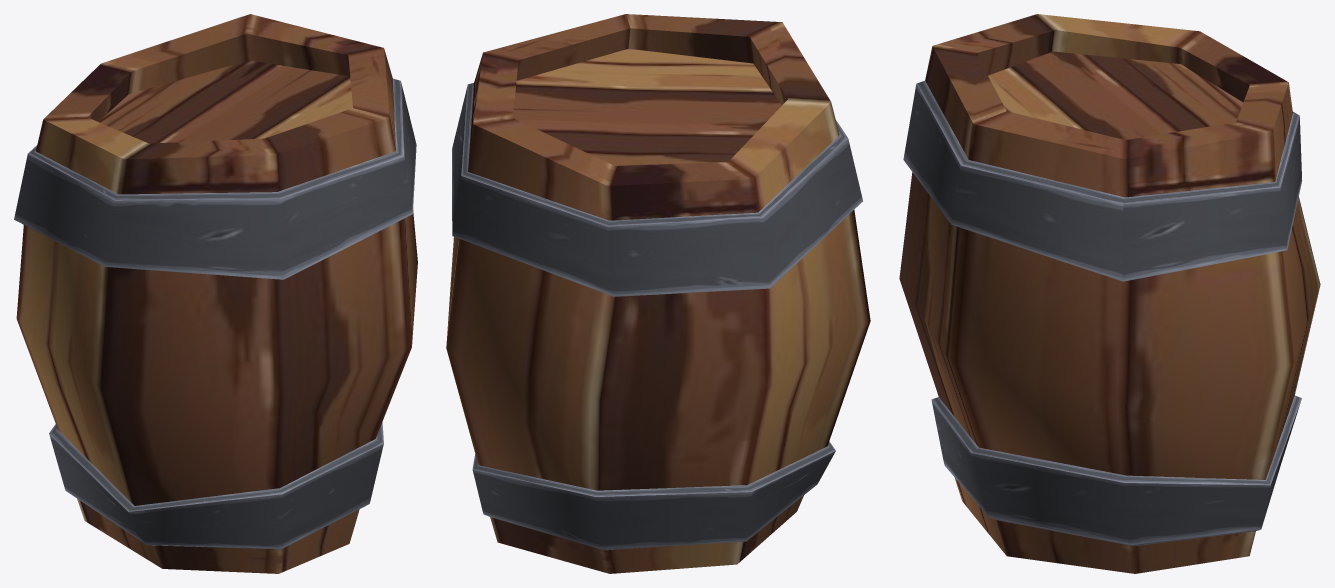
File: SM_PROP_barrel_01.glb
The picture shows the model from 3 angles, left to right: view 1: azimuth 30°, elevation 25°; view 2: azimuth 150°, elevation 25°; view 3: azimuth 270°, elevation 25°; orthographic projection. The views are drawn at different scales.
Visible parts, largest first — view 1: SM_PROP_barrel_01_EXPORT; view 2: SM_PROP_barrel_01_EXPORT; view 3: SM_PROP_barrel_01_EXPORT.
Part boxes in pixels (x1,y1,x2,y2): SM_PROP_barrel_01_EXPORT: (14, 14, 417, 573); SM_PROP_barrel_01_EXPORT: (446, 14, 870, 573); SM_PROP_barrel_01_EXPORT: (899, 14, 1320, 573).
Bounding box in the file's own units: 0.7716 × 0.8929 × 0.7497.
2 materials, 2 textured.
